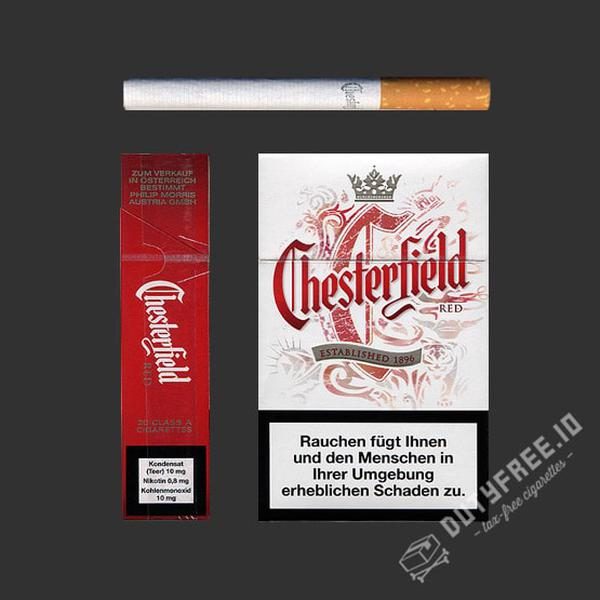chesterfield_red: (258, 156, 487, 521)
